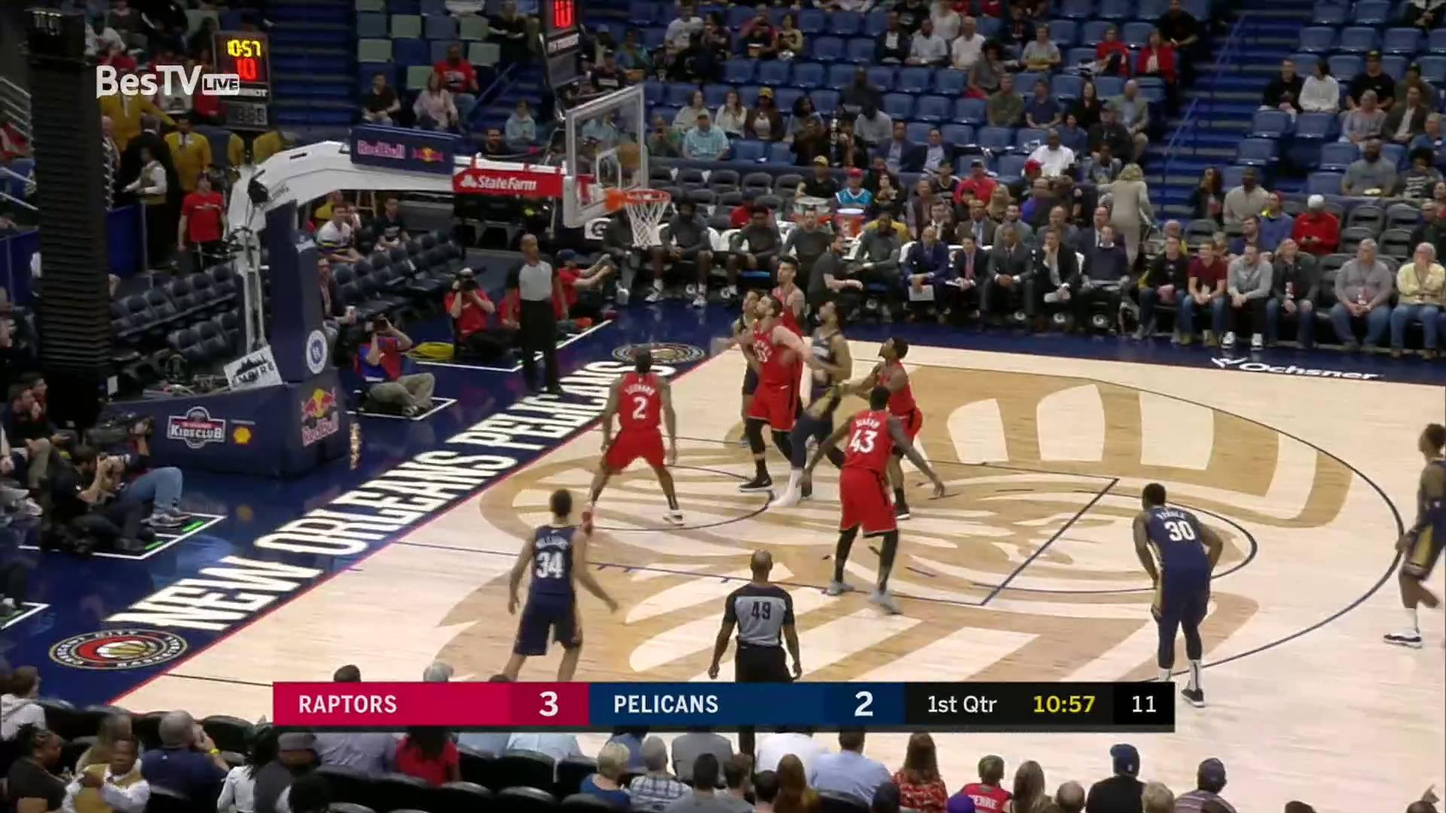basketball: (615, 139, 646, 171)
